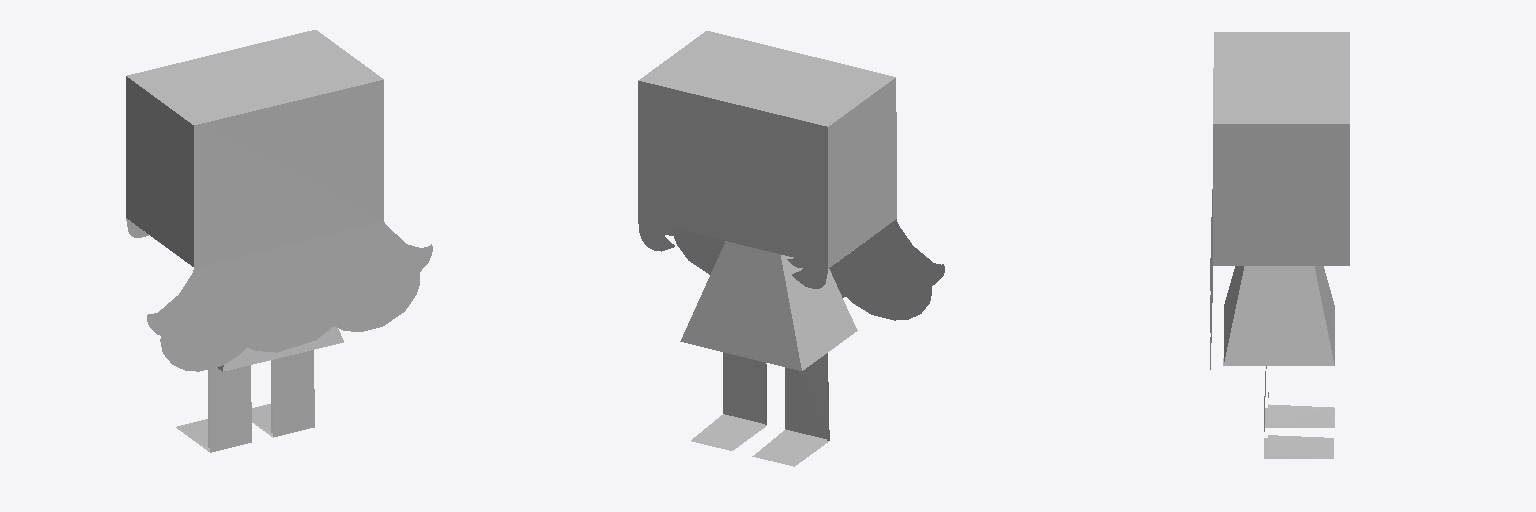
The model's file is generic_npc.obj.
3 renders of one model, left to right at view 1: azimuth 30°, elevation 25°; view 2: azimuth 150°, elevation 25°; view 3: azimuth 270°, elevation 25°, orthographic.
Visible parts, largest first — view 1: StaticNPC; view 2: StaticNPC; view 3: StaticNPC.
Part boxes in pixels (bbox=[...]): StaticNPC: bbox=[126, 30, 432, 452]; StaticNPC: bbox=[638, 31, 944, 466]; StaticNPC: bbox=[1210, 32, 1349, 458].
Bounding box in the file's own units: 0.2681 × 0.3189 × 0.1134.